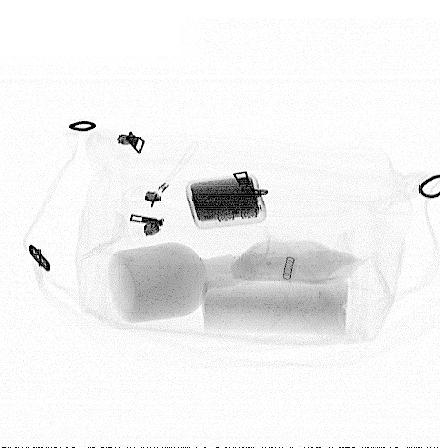Powerbank: (184, 173, 267, 231)
